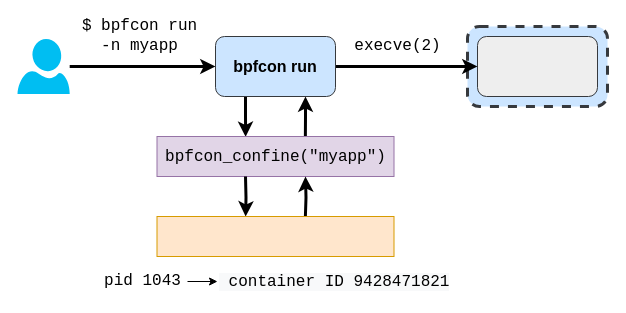
This 626x313 diagram has some shape labels left out. The shapes that lost their labels are listed below. From the top down, each one's centre as x and y in pixels, then its label:
At (x=537, y=66): "myapp".
At (x=275, y=236): "Uprobe".
